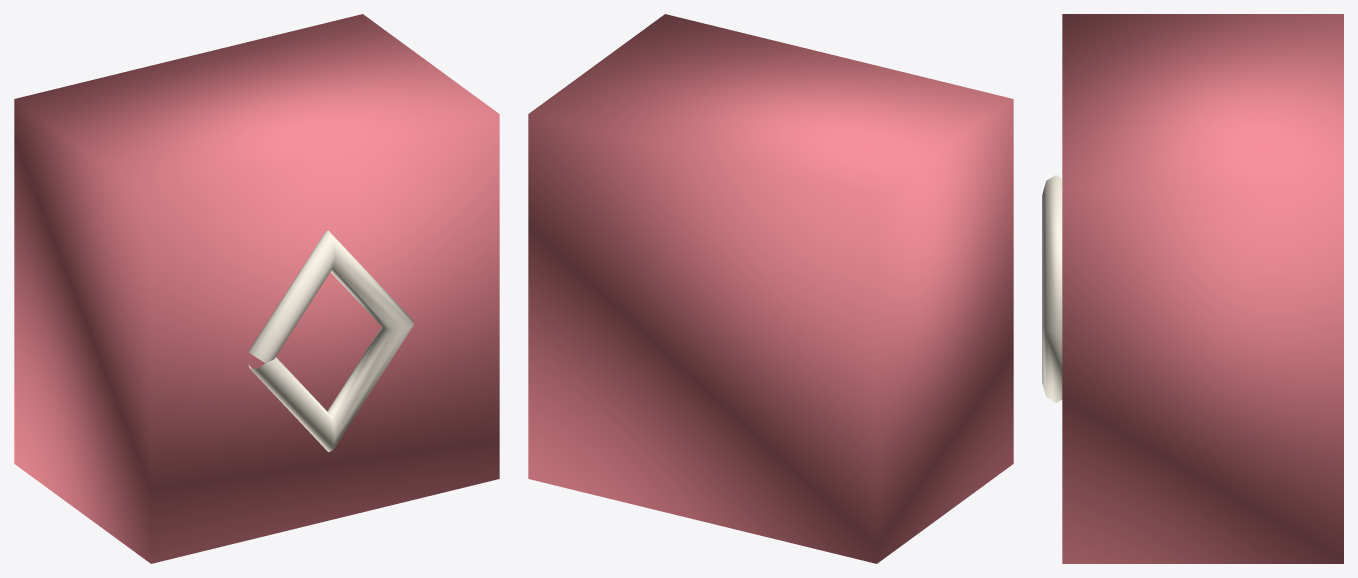
Rendered from block_red.glb.
The picture shows the model from 3 angles, left to right: view 1: azimuth 30°, elevation 25°; view 2: azimuth 150°, elevation 25°; view 3: azimuth 270°, elevation 25°; orthographic projection. The views are drawn at different scales.
Visible parts, largest first — view 1: red, diamond_icon; view 2: red; view 3: red, diamond_icon.
Part boxes in pixels (left/top/right/bottom): red: left=14, top=14, right=499, bottom=563; diamond_icon: left=248, top=230, right=413, bottom=451; red: left=528, top=14, right=1013, bottom=563; red: left=1062, top=14, right=1343, bottom=563; diamond_icon: left=1042, top=175, right=1062, bottom=402.
Bounding box in the file's own units: 1 × 1 × 0.729.
